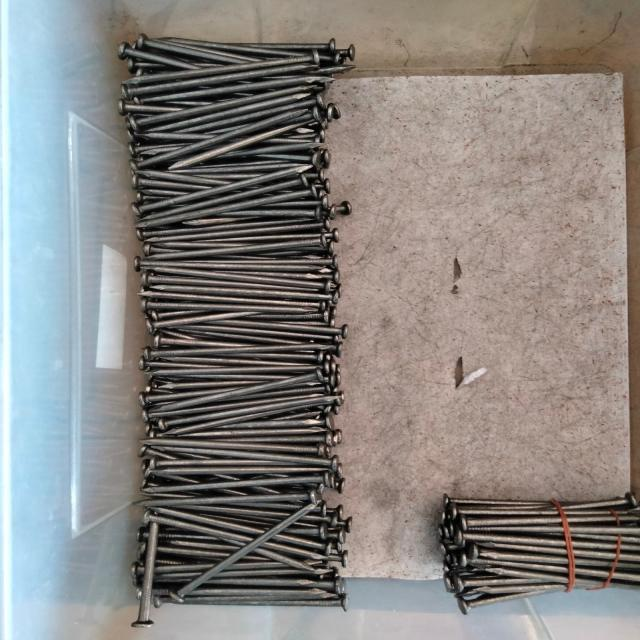3x8 nail: (106, 489, 352, 631), (121, 44, 329, 112)
